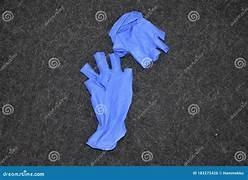Glove: (80, 52, 132, 149), (109, 11, 168, 67)
